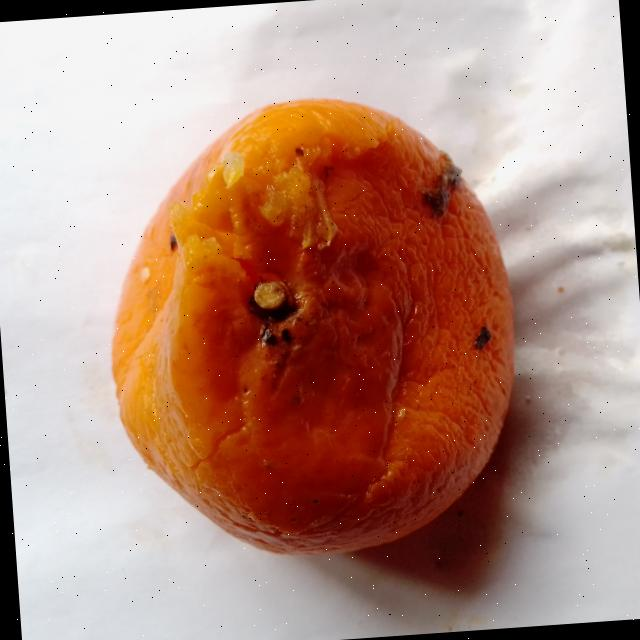Rotten: (94, 84, 531, 568)
